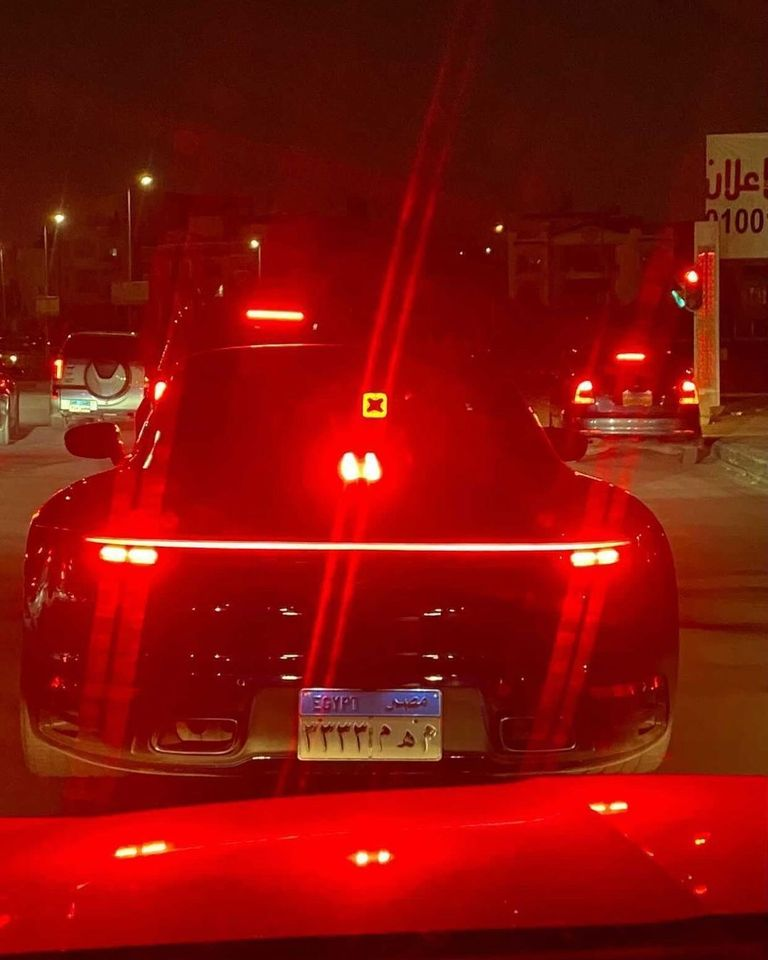carpl: (299, 705, 443, 763)
